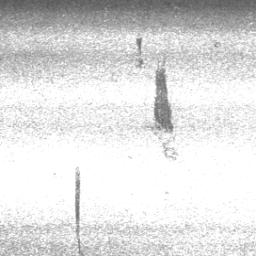Iron scale compression: (154, 52, 174, 133), (75, 166, 83, 256), (135, 35, 143, 67)
